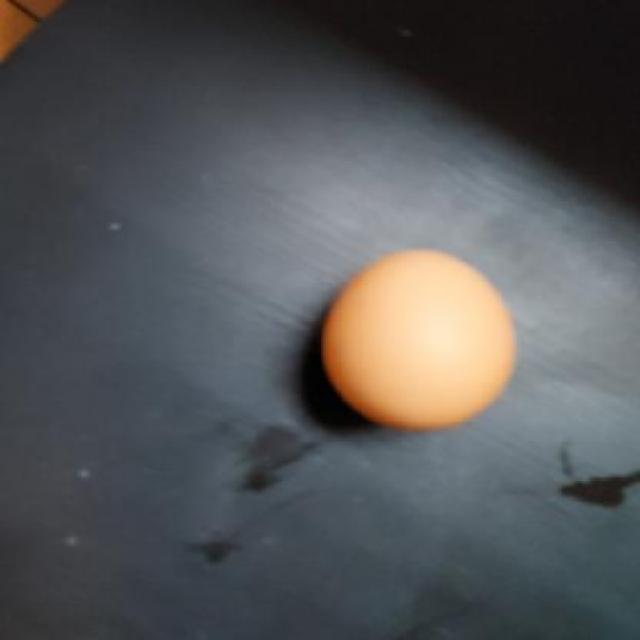biodegradable: (327, 250, 518, 432)
